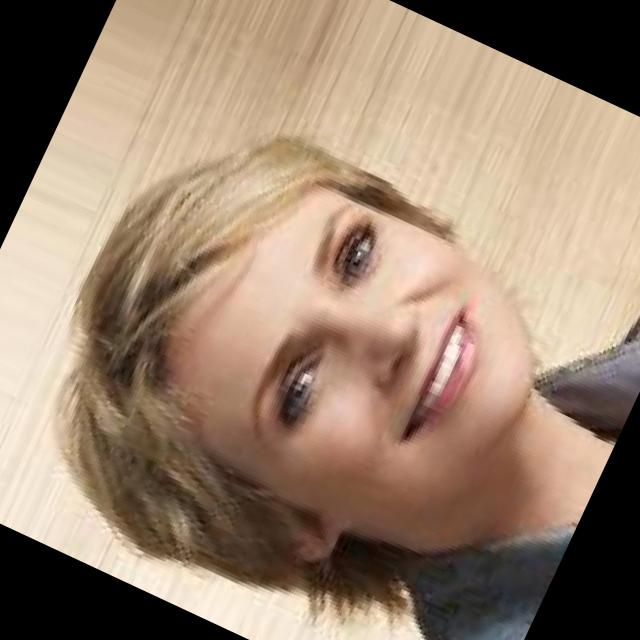bareface: (16, 72, 592, 588)
